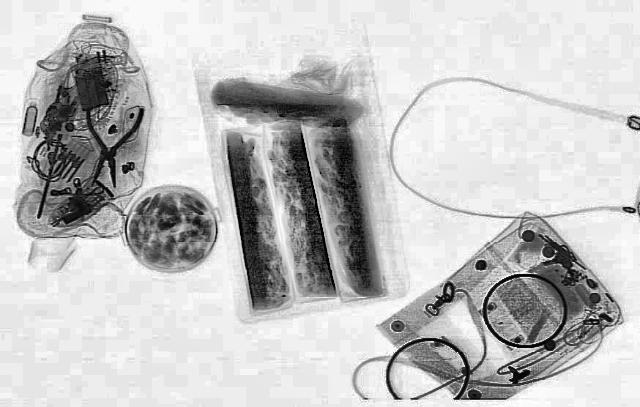Pliers: (70, 104, 144, 188)
